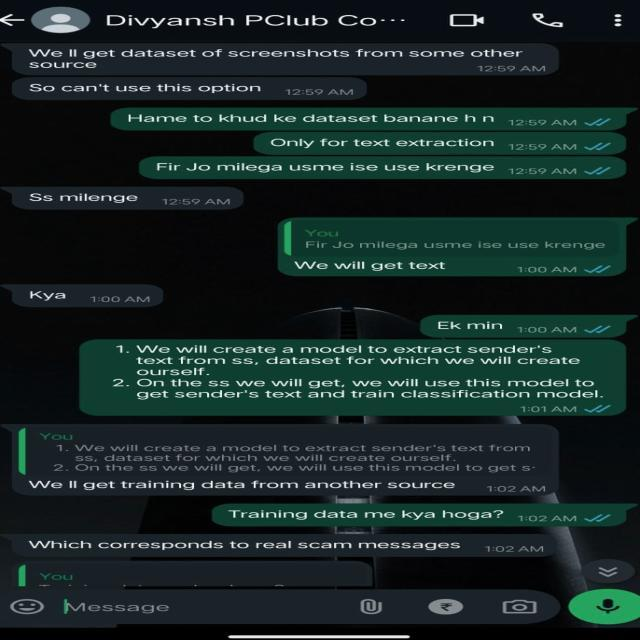scam: (2, 45, 562, 78), (14, 534, 555, 558), (19, 478, 557, 496), (6, 78, 374, 102), (0, 185, 243, 211), (1, 281, 172, 310)
